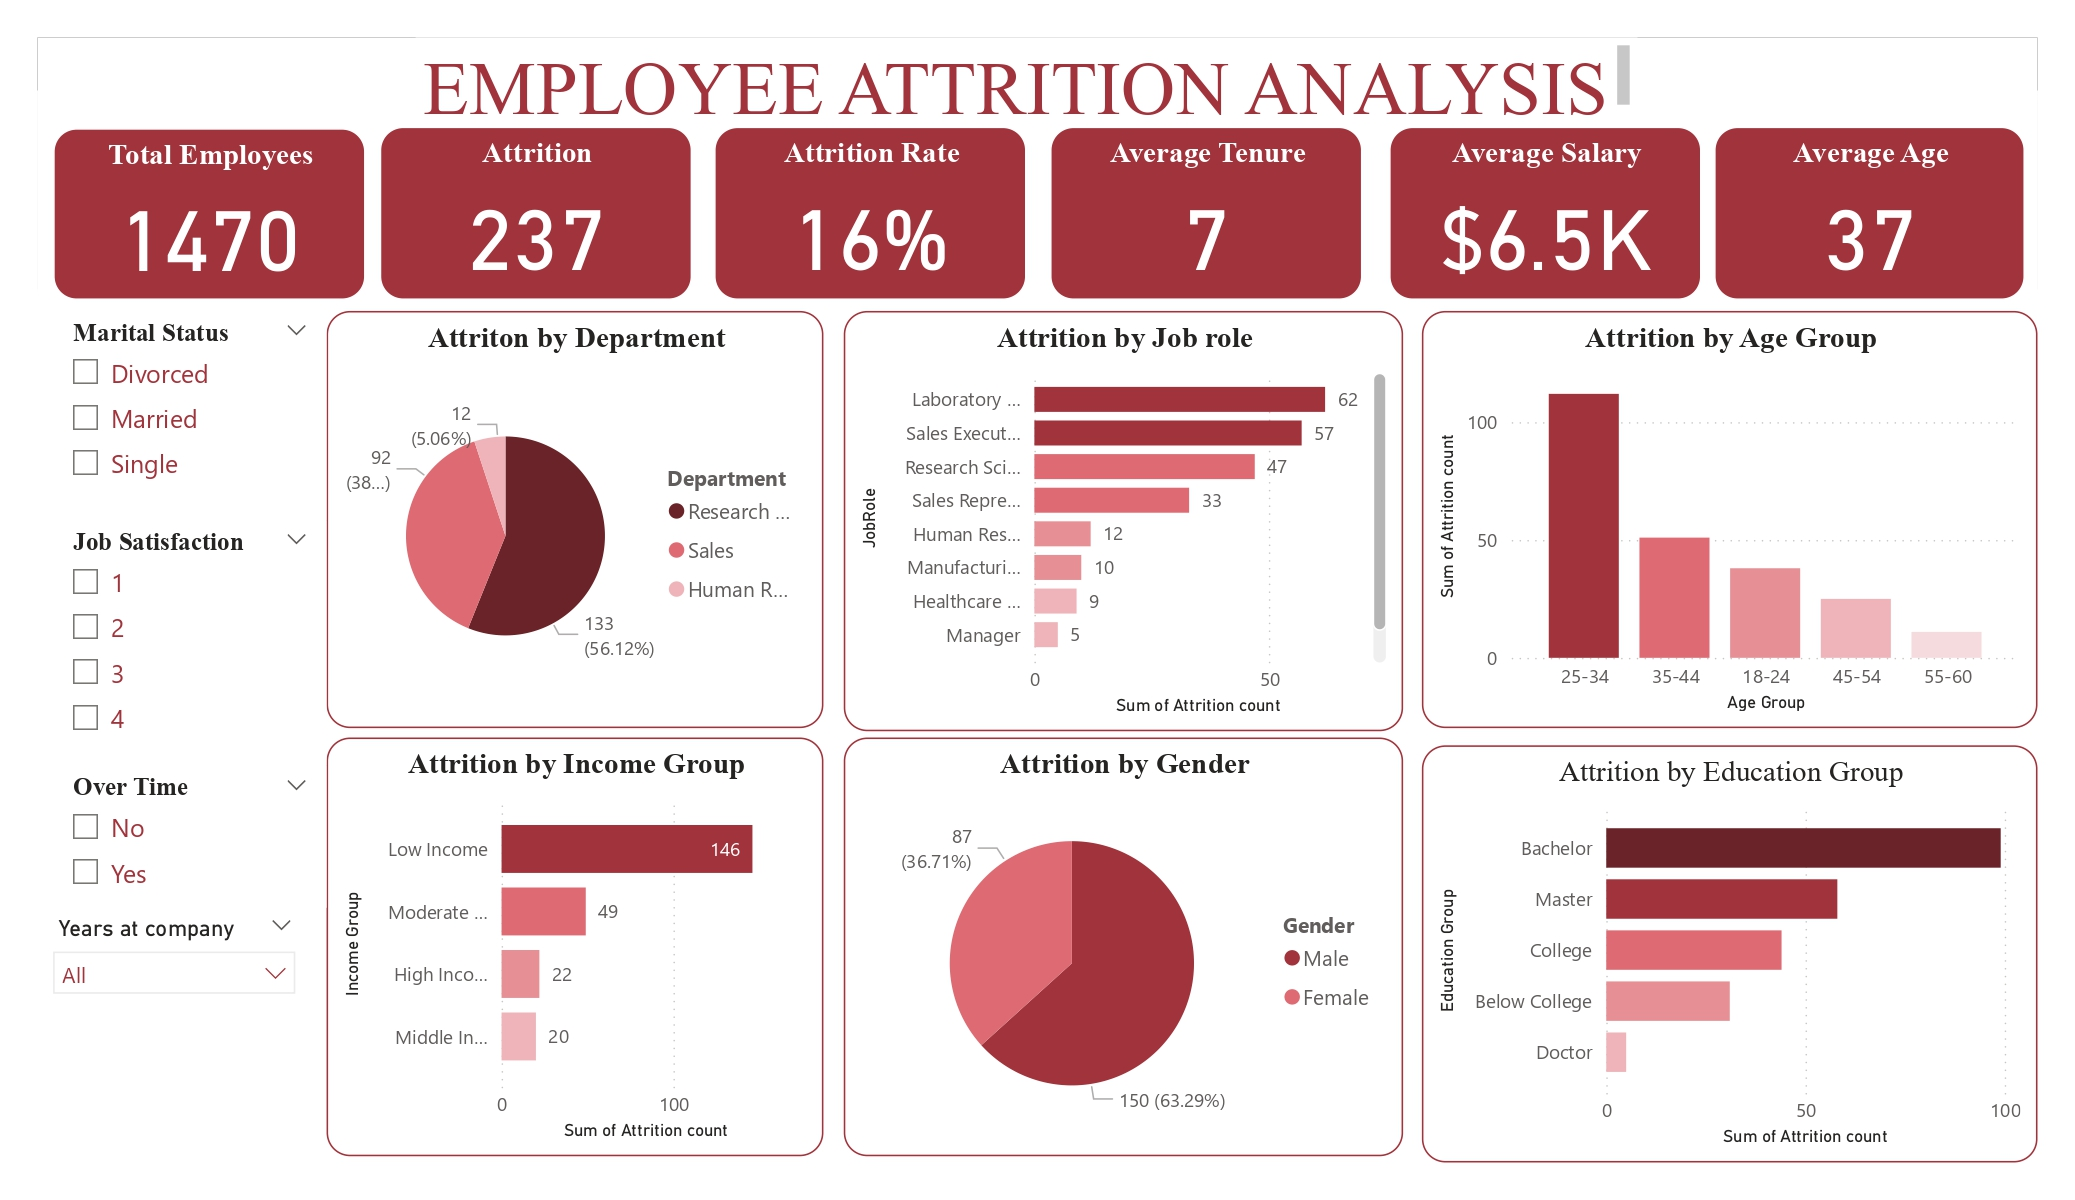

What the dashboard file says about the page in this screenshot:
{"tool":"powerbi","page":{"name":"Page 1","canvas":[1280,720],"ordinal":0},"visuals":[{"type":"card","title":"Total Employees","fields":{"Values":["Sum(WA_Fn-UseC_-HR-Employee-Attrition.EmployeeCount)"]},"box":[10.1,57.8,200,110],"z":0},{"type":"card","title":"Attrition","fields":{"Values":["Sum(WA_Fn-UseC_-HR-Employee-Attrition.Attrition count)"]},"box":[218.9,57.3,199.8,110.2],"z":1000},{"type":"card","title":"Attrition Rate","fields":{"Values":["WA_Fn-UseC_-HR-Employee-Attrition.Attrition rate"]},"box":[433.5,57.3,199.8,110.2],"z":2000},{"type":"card","title":"Average Tenure","fields":{"Values":["WA_Fn-UseC_-HR-Employee-Attrition.Average Tenure"]},"box":[648,57.3,199.8,110.2],"z":3000},{"type":"card","title":"Average Salary","fields":{"Values":["Avg(WA_Fn-UseC_-HR-Employee-Attrition.MonthlyIncome)"]},"box":[865.5,57.3,199.8,110.2],"z":4000},{"type":"card","title":"Average Age","fields":{"Values":["Avg(WA_Fn-UseC_-HR-Employee-Attrition.Age)"]},"box":[1072.7,57.3,199.8,110.2],"z":5000},{"type":"pieChart","title":"Attriton by Department","fields":{"Category":["WA_Fn-UseC_-HR-Employee-Attrition.Department"],"Y":["Sum(WA_Fn-UseC_-HR-Employee-Attrition.Attrition count)"]},"box":[185.1,174.9,317.4,267.4],"z":6000},{"type":"columnChart","title":"Attrition by Age Group","fields":{"Category":["WA_Fn-UseC_-HR-Employee-Attrition.Age Group"],"Y":["Sum(WA_Fn-UseC_-HR-Employee-Attrition.Attrition count)"]},"box":[886,174.9,393.8,267.4],"z":7000},{"type":"pieChart","title":"Attrition by Gender","fields":{"Category":["WA_Fn-UseC_-HR-Employee-Attrition.Gender"],"Y":["Sum(WA_Fn-UseC_-HR-Employee-Attrition.Attrition count)"]},"box":[515.8,448.2,358.5,267.4],"z":8000},{"type":"barChart","title":"Attrition by Income Group","fields":{"Y":["Sum(WA_Fn-UseC_-HR-Employee-Attrition.Attrition count)"],"Category":["WA_Fn-UseC_-HR-Employee-Attrition.Income Group"]},"box":[185.1,448.2,317.4,267.4],"z":9000},{"type":"clusteredBarChart","title":"Attrition by Job role","fields":{"Category":["WA_Fn-UseC_-HR-Employee-Attrition.JobRole"],"Y":["Sum(WA_Fn-UseC_-HR-Employee-Attrition.Attrition count)"]},"box":[515.8,174.9,358.5,268.9],"z":10000},{"type":"clusteredBarChart","title":"Attrition by Education Group","fields":{"Category":["WA_Fn-UseC_-HR-Employee-Attrition.Education Group"],"Y":["Sum(WA_Fn-UseC_-HR-Employee-Attrition.Attrition count)"]},"box":[886,452.6,393.8,267.4],"z":11000},{"type":"textbox","box":[242.4,0,781.7,55.8],"z":12000},{"type":"slicer","fields":{"Values":["WA_Fn-UseC_-HR-Employee-Attrition.MaritalStatus"]},"box":[10.3,174.9,174.9,133.7],"z":13000},{"type":"slicer","fields":{"Values":["WA_Fn-UseC_-HR-Employee-Attrition.JobSatisfaction"]},"box":[10.3,308.6,174.9,157.2],"z":14000},{"type":"slicer","fields":{"Values":["WA_Fn-UseC_-HR-Employee-Attrition.OverTime"]},"box":[10.3,465.8,174.9,91.1],"z":15000},{"type":"slicer","fields":{"Values":["WA_Fn-UseC_-HR-Employee-Attrition.YearsAtCompany"]},"box":[0,556.9,174.9,64.7],"z":16000}]}

Visuals, with their boxes in screenshot pixels (x1, y1, x2, y2):
"Total Employees" card: <bbox>53, 128, 366, 300</bbox>
"Attrition" card: <bbox>380, 127, 692, 299</bbox>
"Attrition Rate" card: <bbox>715, 127, 1027, 299</bbox>
"Average Tenure" card: <bbox>1050, 127, 1362, 299</bbox>
"Average Salary" card: <bbox>1390, 127, 1702, 299</bbox>
"Average Age" card: <bbox>1714, 127, 2026, 299</bbox>
"Attriton by Department" pieChart: <bbox>327, 311, 823, 729</bbox>
"Attrition by Age Group" columnChart: <bbox>1422, 311, 2037, 729</bbox>
"Attrition by Gender" pieChart: <bbox>843, 738, 1404, 1156</bbox>
"Attrition by Income Group" barChart: <bbox>327, 738, 823, 1156</bbox>
"Attrition by Job role" clusteredBarChart: <bbox>843, 311, 1404, 731</bbox>
"Attrition by Education Group" clusteredBarChart: <bbox>1422, 745, 2037, 1162</bbox>
textbox: <bbox>416, 38, 1638, 125</bbox>
slicer - WA_Fn-UseC_-HR-Employee-Attrition.MaritalStatus: <bbox>54, 311, 327, 520</bbox>
slicer - WA_Fn-UseC_-HR-Employee-Attrition.JobSatisfaction: <bbox>54, 520, 327, 765</bbox>
slicer - WA_Fn-UseC_-HR-Employee-Attrition.OverTime: <bbox>54, 765, 327, 908</bbox>
slicer - WA_Fn-UseC_-HR-Employee-Attrition.YearsAtCompany: <bbox>38, 908, 311, 1009</bbox>
